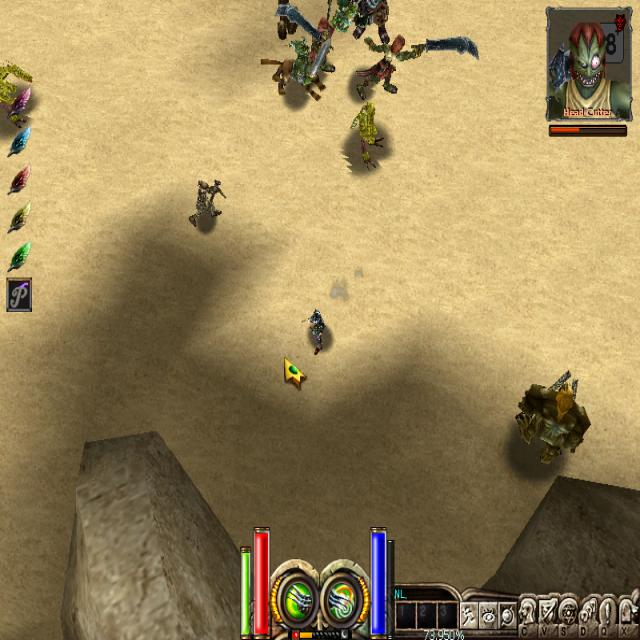monster: (352, 24, 473, 102), (263, 35, 340, 111), (342, 94, 402, 183), (179, 164, 226, 260)
